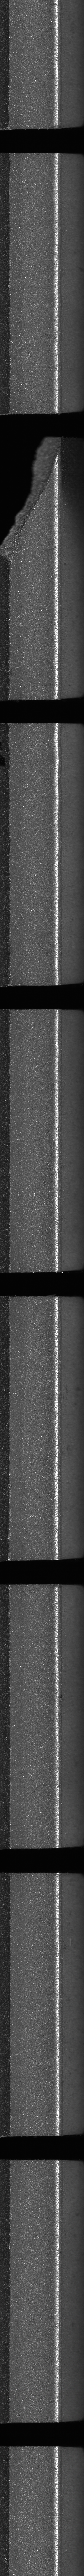Chip: (0, 435, 64, 563)
